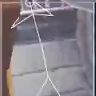hacks_2: (11, 1, 60, 96)
